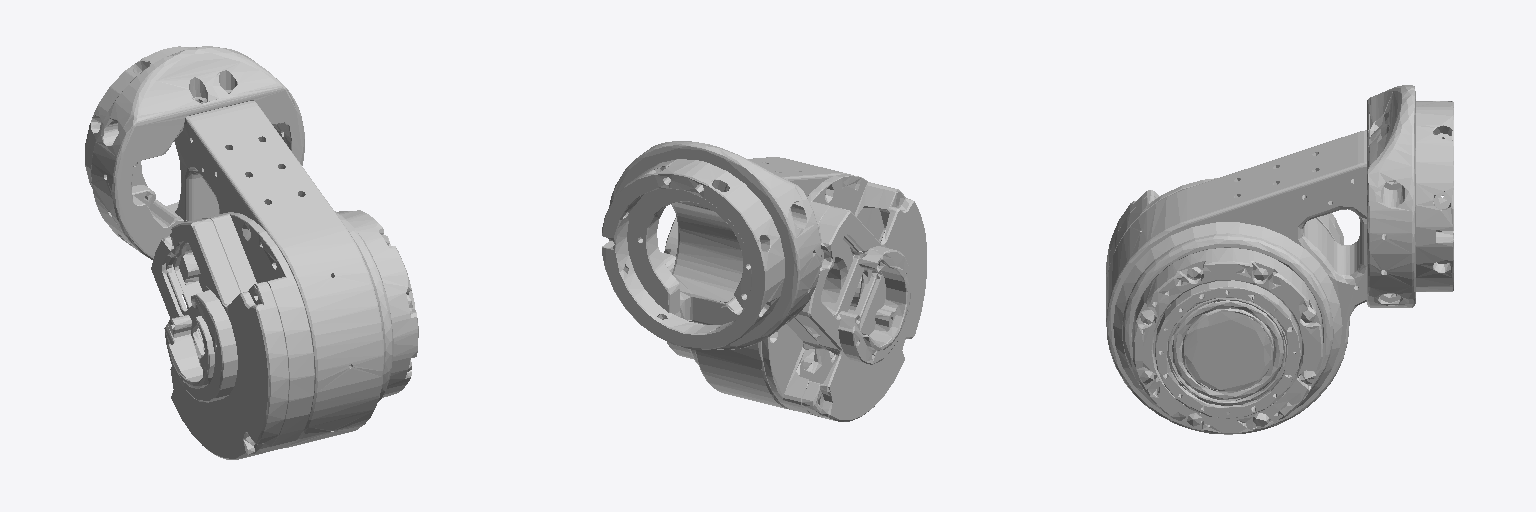
File: shoulderRollLeft.obj
3 views of the same model, side by side, from view 1: azimuth 30°, elevation 25°; view 2: azimuth 150°, elevation 25°; view 3: azimuth 270°, elevation 25° (orthographic).
Visible parts, largest first — view 1: shoulderRollLeft-2; view 2: shoulderRollLeft-2; view 3: shoulderRollLeft-2.
Part boxes in pixels (bbox=[...]): shoulderRollLeft-2: bbox=[85, 46, 418, 459]; shoulderRollLeft-2: bbox=[602, 141, 926, 421]; shoulderRollLeft-2: bbox=[1106, 85, 1453, 434].
Size of the model in its own units: 0.0655 by 0.101 by 0.1.